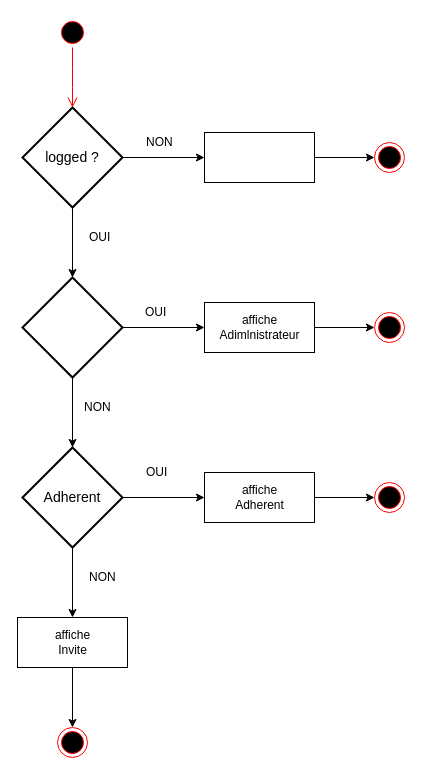
Some shapes in this 422 by 775 pixel diagram are drawn without their labels. Each missing label, with the centre of its shape:
Admin: [72,327]
affichage Accueil: [259,157]
